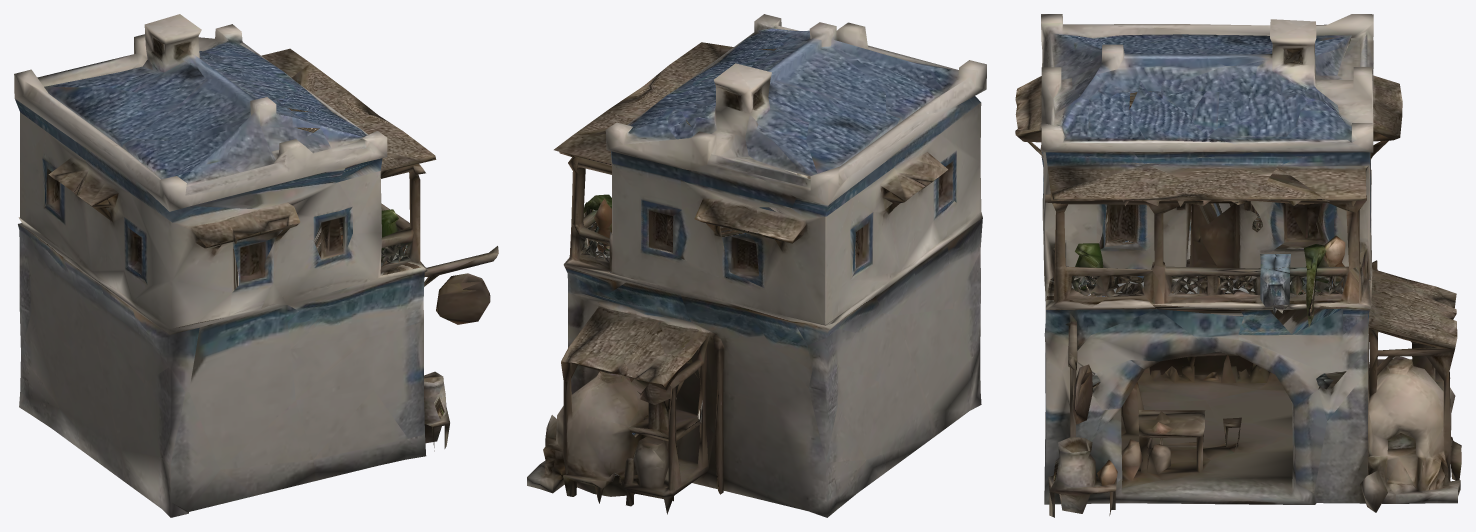
File: house_craftsman_2.glb
The picture shows the model from 3 angles, left to right: view 1: azimuth 30°, elevation 25°; view 2: azimuth 150°, elevation 25°; view 3: azimuth 270°, elevation 25°; orthographic projection. The views are drawn at different scales.
Parts seen in each view (by area): view 1: house_craftsman_2; view 2: house_craftsman_2; view 3: house_craftsman_2.
Boxes of the visible parts, x1,y1,x2,y2 form: house_craftsman_2: [14, 14, 498, 517]; house_craftsman_2: [527, 14, 986, 517]; house_craftsman_2: [1015, 14, 1461, 517].
Bounding box in the file's own units: 0.9756 × 0.9685 × 0.9673.
1 material, 1 textured.
